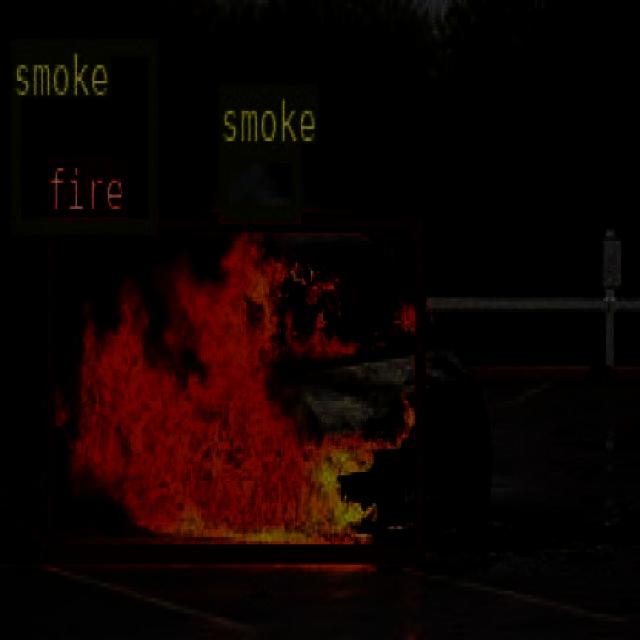fire: (43, 211, 423, 557)
smoke: (10, 37, 155, 231), (218, 142, 298, 218)
